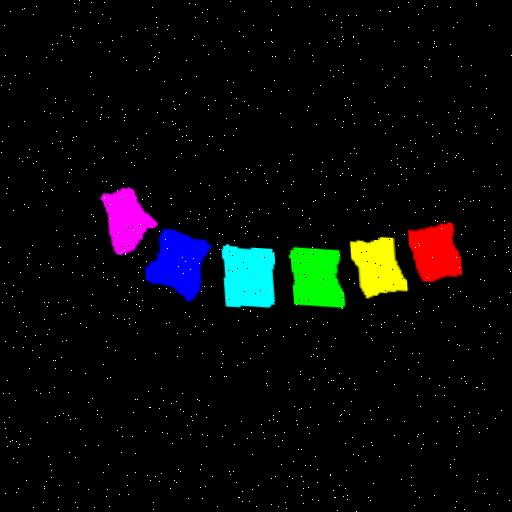L1: (404, 217, 457, 276)
L2: (346, 232, 403, 293)
L3: (286, 243, 340, 303)
L4: (217, 243, 270, 303)
L5: (140, 227, 206, 300)
S1: (97, 186, 153, 253)
